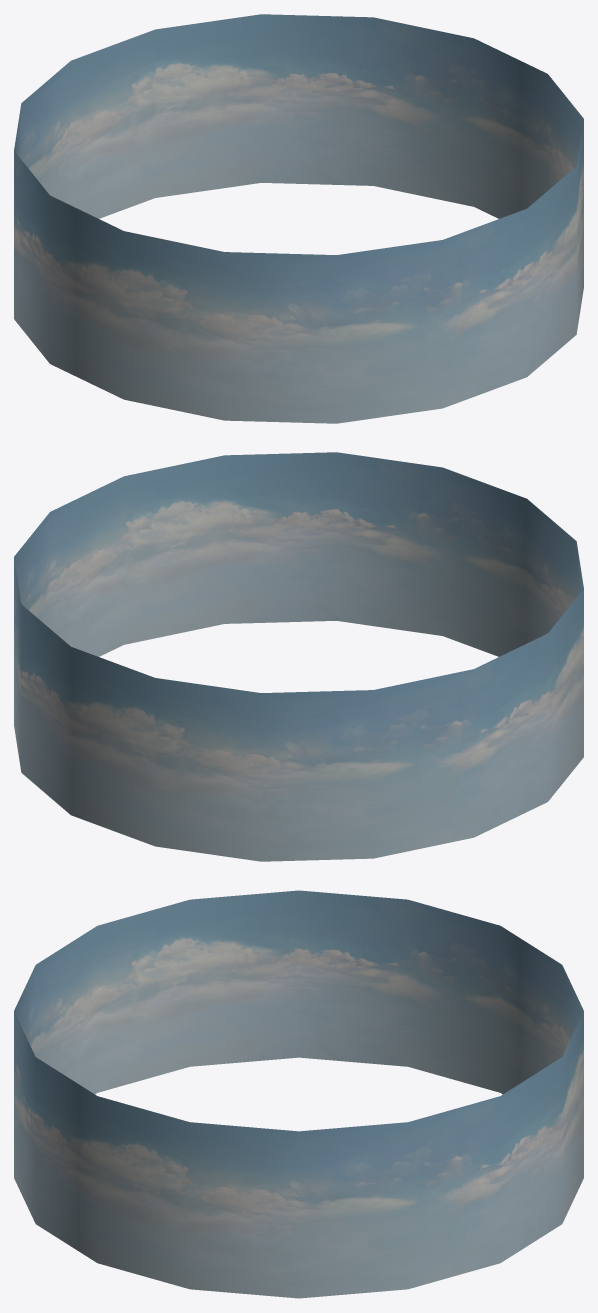
File: S7_tiankonghe_001.FBX
3 views of the same model, one above another, from view 1: azimuth 30°, elevation 25°; view 2: azimuth 150°, elevation 25°; view 3: azimuth 270°, elevation 25° (orthographic).
Parts seen in each view (by area): view 1: S7_tiankonghe_001; view 2: S7_tiankonghe_001; view 3: S7_tiankonghe_001.
Part boxes in pixels (bbox=[...]): S7_tiankonghe_001: bbox=[14, 14, 583, 423]; S7_tiankonghe_001: bbox=[14, 452, 583, 861]; S7_tiankonghe_001: bbox=[14, 890, 583, 1298].
Size of the model in its own units: 149 by 48.1 by 149.
